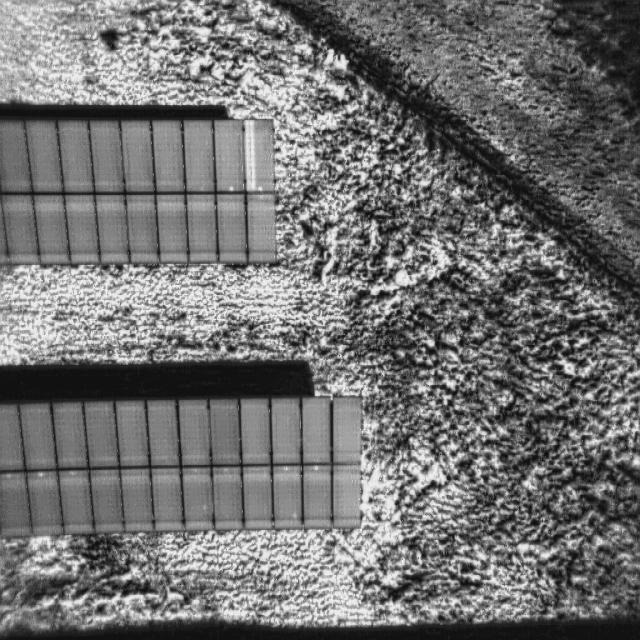diode: (245, 120, 256, 190)
